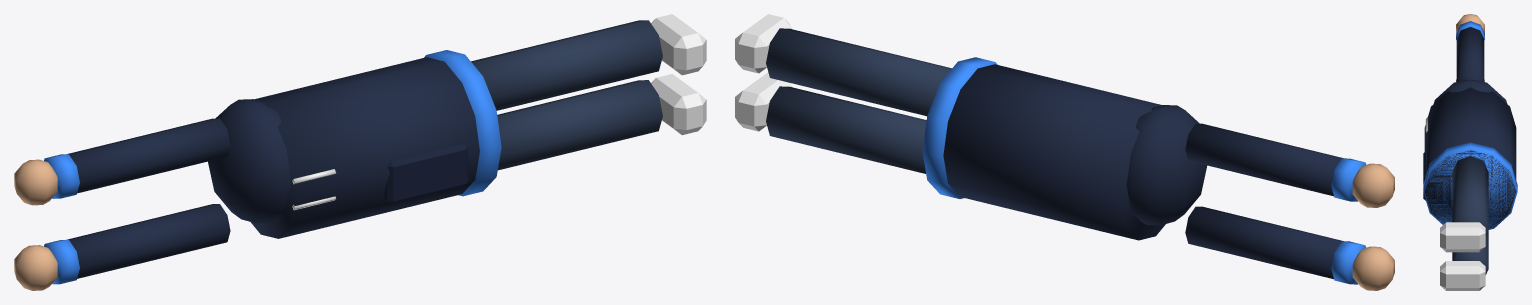
Rendered from mathisucre.glb.
The picture shows the model from 3 angles, left to right: view 1: azimuth 30°, elevation 25°; view 2: azimuth 150°, elevation 25°; view 3: azimuth 270°, elevation 25°; orthographic projection. The views are drawn at different scales.
Parts seen in each view (by area): view 1: torso, jeans_R, jeans_L, hood, sleeve_R, sleeve_L, pocket, waistband, shoe_L, shoe_R, hand_L, hand_R (+2 smaller); view 2: torso, jeans_R, jeans_L, hood, sleeve_L, sleeve_R, waistband, shoe_R, shoe_L, hand_L, hand_R, cuff_L (+1 smaller); view 3: torso, waistband, jeans_R, sleeve_R, shoe_R, shoe_L, hood, jeans_L, hand_R, cuff_R, pocket.
Boxes of the visible parts, x1,y1,x2,y2 form: torso: (251, 57, 479, 238); jeans_R: (471, 20, 662, 110); jeans_L: (497, 80, 662, 170); hood: (208, 99, 290, 223); sleeve_R: (67, 118, 230, 193); sleeve_L: (67, 204, 230, 278); pocket: (384, 143, 468, 203); waistband: (424, 50, 501, 196); shoe_L: (651, 74, 706, 135); shoe_R: (651, 14, 706, 75); hand_L: (14, 245, 57, 290); hand_R: (14, 159, 57, 205); torso: (943, 64, 1165, 240); jeans_R: (766, 28, 951, 116); jeans_L: (766, 86, 926, 173); hood: (1126, 105, 1207, 225); sleeve_L: (1185, 206, 1343, 279); sleeve_R: (1185, 123, 1343, 196); waistband: (922, 57, 997, 198); shoe_R: (735, 14, 791, 73); shoe_L: (735, 72, 791, 131); hand_L: (1352, 246, 1394, 290); hand_R: (1352, 163, 1394, 207); cuff_L: (1331, 241, 1366, 284); torso: (1424, 87, 1516, 227); waistband: (1423, 142, 1517, 229); jeans_R: (1452, 156, 1488, 236); sleeve_R: (1456, 27, 1484, 81); shoe_R: (1440, 222, 1485, 252); shoe_L: (1440, 261, 1485, 290); hood: (1433, 80, 1507, 103); jeans_L: (1452, 231, 1488, 274); hand_R: (1456, 14, 1484, 32); cuff_R: (1456, 21, 1484, 39); pocket: (1423, 150, 1426, 200).
Size of the model in its own units: 3.29 by 0.63 by 0.62.
